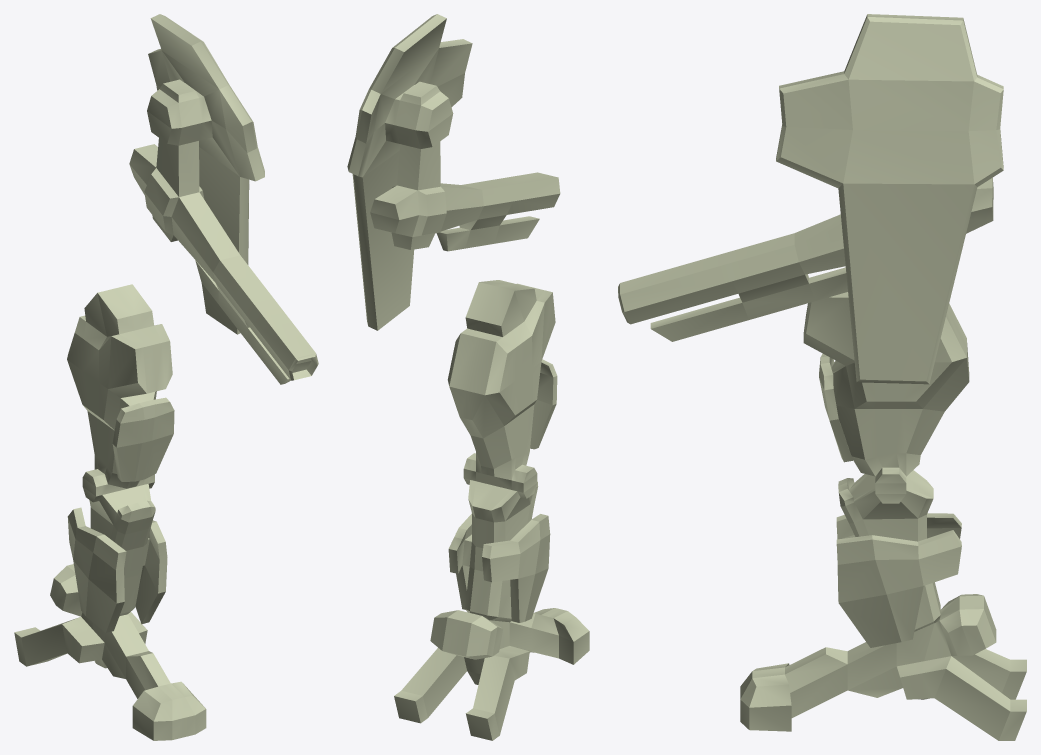
File: robot.obj
The picture shows the model from 3 angles, left to right: view 1: azimuth 30°, elevation 25°; view 2: azimuth 150°, elevation 25°; view 3: azimuth 270°, elevation 25°; orthographic projection. The views are drawn at different scales.
Visible parts, largest first — view 1: arm_r_copy13_arm_r_copy13, leg_l_copy14_leg_l_copy14, arm_r_copy13.001_arm_r_copy13.001, leg_l_copy14.003_leg_l_copy14.003, leg_l_copy14.002_leg_l_copy14.002, leg_l_copy14.001_leg_l_copy14.001; view 2: arm_r_copy13_arm_r_copy13, leg_l_copy14_leg_l_copy14, leg_l_copy14.003_leg_l_copy14.003, leg_l_copy14.002_leg_l_copy14.002, arm_r_copy13.001_arm_r_copy13.001, leg_l_copy14.001_leg_l_copy14.001; view 3: arm_r_copy13_arm_r_copy13, leg_l_copy14.003_leg_l_copy14.003, arm_r_copy13.001_arm_r_copy13.001, leg_l_copy14.002_leg_l_copy14.002, leg_l_copy14_leg_l_copy14, leg_l_copy14.001_leg_l_copy14.001.
Part boxes in pixels (x1,y1,x2,y2): arm_r_copy13_arm_r_copy13: (147,14,264,334); leg_l_copy14_leg_l_copy14: (67,284,174,488); arm_r_copy13.001_arm_r_copy13.001: (129,144,318,384); leg_l_copy14.003_leg_l_copy14.003: (14,564,206,740); leg_l_copy14.002_leg_l_copy14.002: (67,484,167,632); leg_l_copy14.001_leg_l_copy14.001: (82,469,154,502); arm_r_copy13_arm_r_copy13: (347,14,472,330); leg_l_copy14_leg_l_copy14: (447,280,557,480); leg_l_copy14.003_leg_l_copy14.003: (394,608,589,740); leg_l_copy14.002_leg_l_copy14.002: (448,480,550,622); arm_r_copy13.001_arm_r_copy13.001: (370,172,560,251); leg_l_copy14.001_leg_l_copy14.001: (463,453,537,498); arm_r_copy13_arm_r_copy13: (776,14,1003,384); leg_l_copy14.003_leg_l_copy14.003: (740,594,1026,740); arm_r_copy13.001_arm_r_copy13.001: (618,177,993,341); leg_l_copy14.002_leg_l_copy14.002: (836,470,961,647); leg_l_copy14_leg_l_copy14: (803,292,969,476); leg_l_copy14.001_leg_l_copy14.001: (875,467,906,503).
Bounding box in the file's own units: 5.16 × 19.48 × 9.76.
